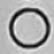no answer: (8, 7, 49, 49)
